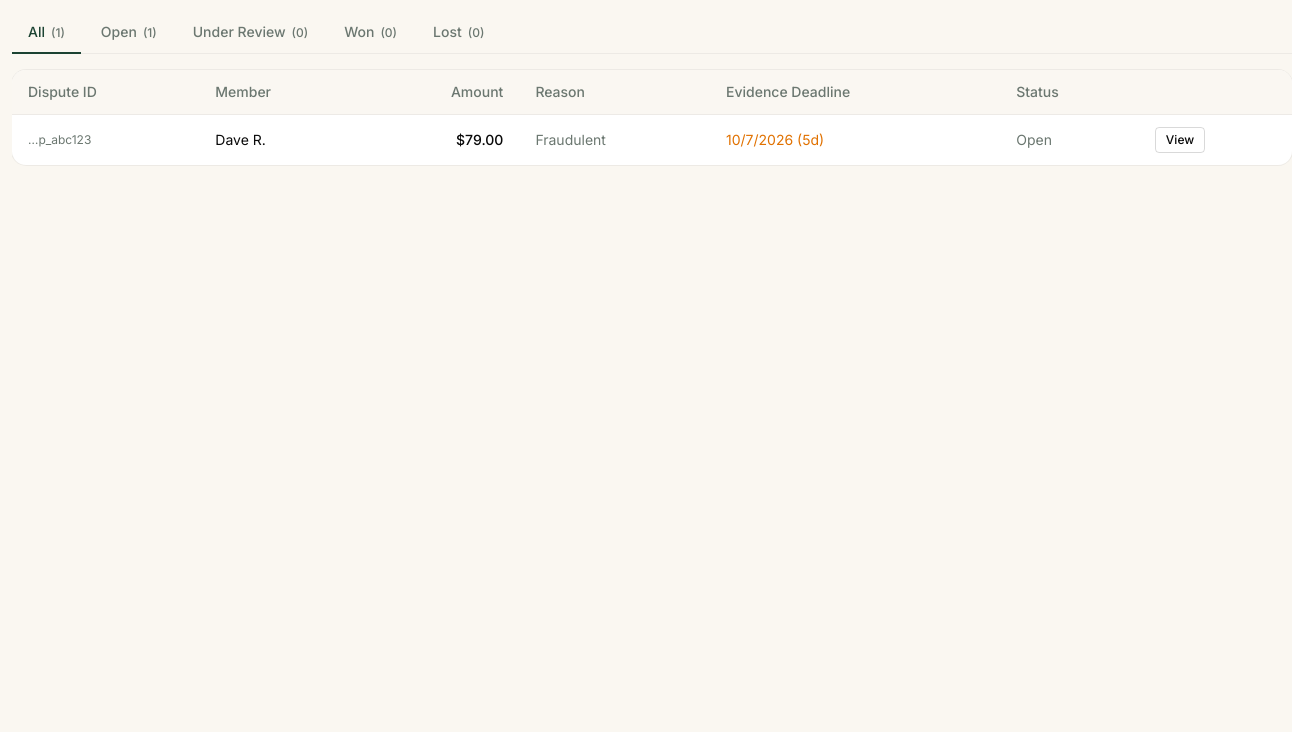
DisputeList › opens detail panel on View click
Click the button "View" at (1180,140), box [1155,127,1205,153]
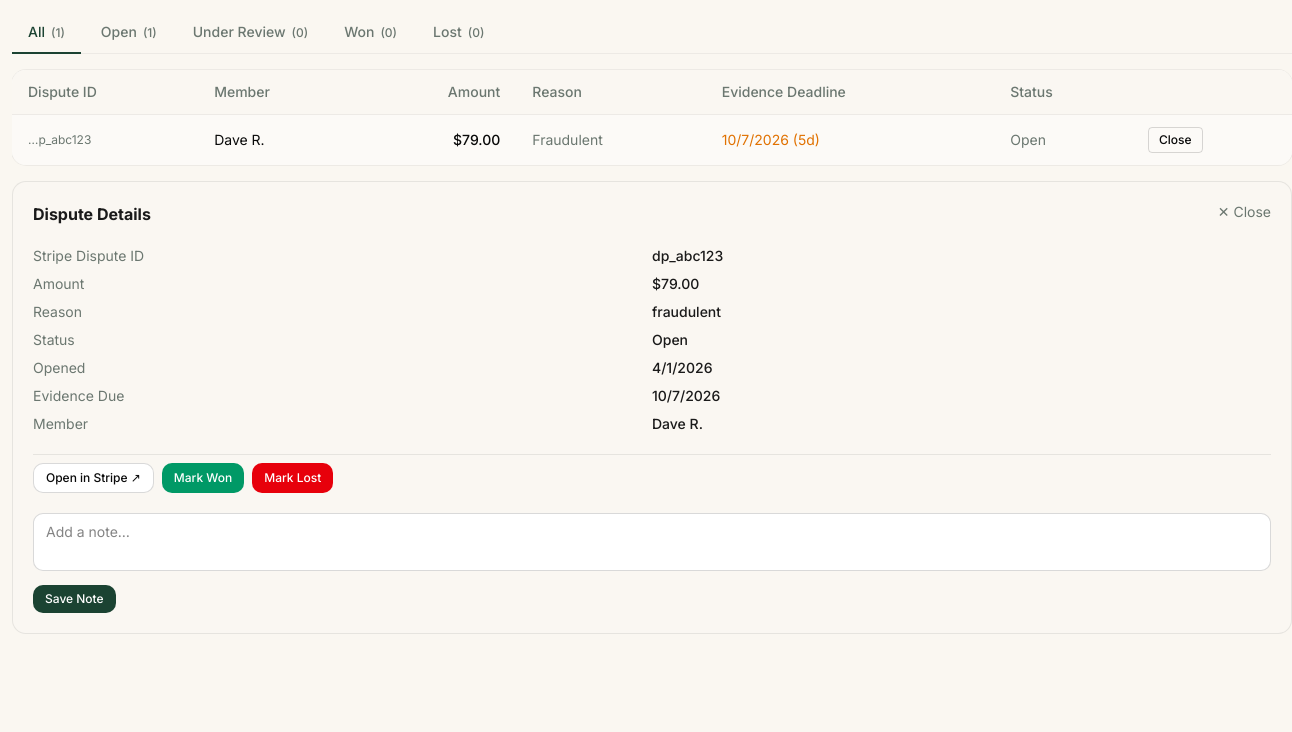
Result: the text "dp_abc123" is shown at [652,247,723,264]
